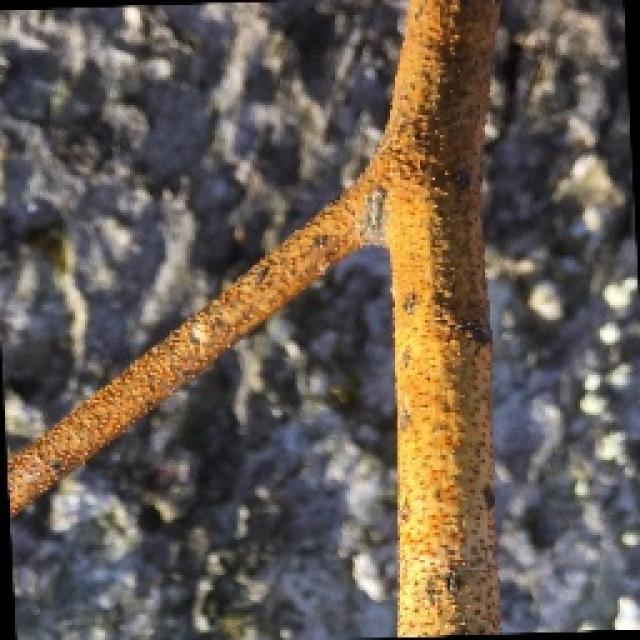Golden_canker: (2, 8, 560, 640)
